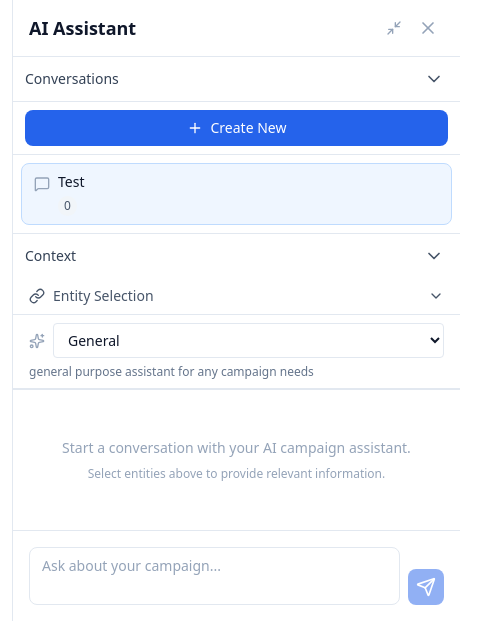
ChatPanel Component - Accessibility (Issue #203) › should update aria-expanded when sections are toggled
Click the button named "toggle conversations". click: (434, 79)
box: top-left (420, 65), bottom-right (448, 93)
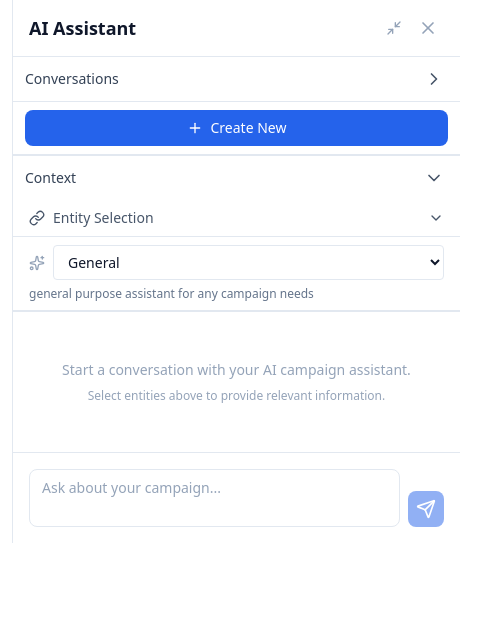
expect the button named "toggle conversations" is collapsed: met, box top-left (420, 65), bottom-right (448, 93)
